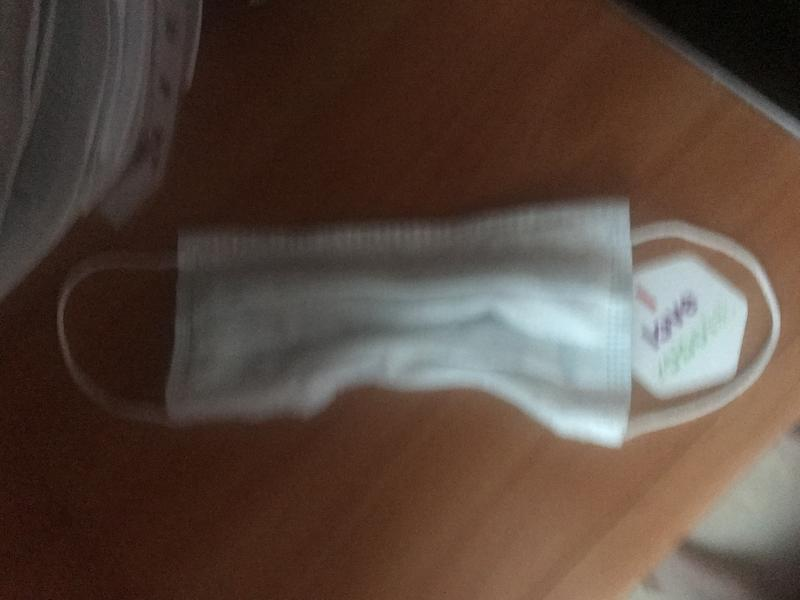medical_mask: (56, 201, 780, 450)
